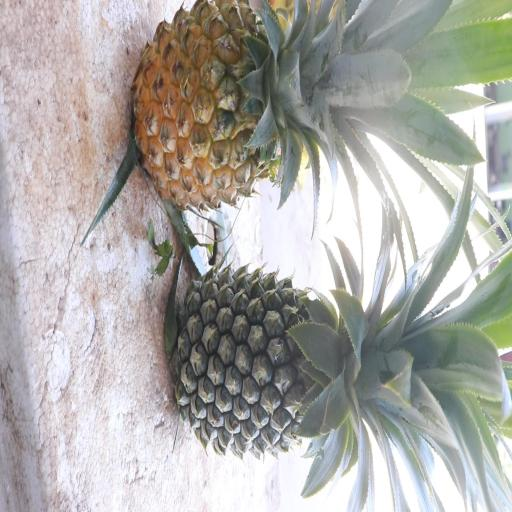Pineapple - v8 v1: (140, 0, 416, 207)
